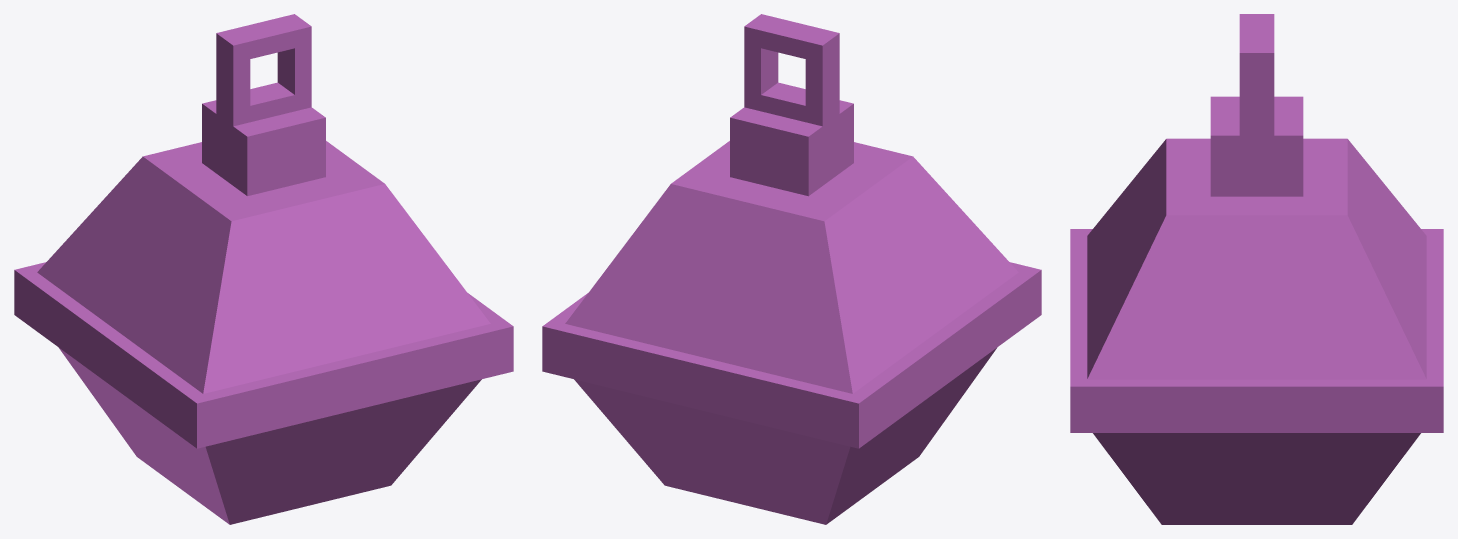
Rendered from 041 Xmas_Bell.fbx.
3 views of the same model, side by side, from view 1: azimuth 30°, elevation 25°; view 2: azimuth 150°, elevation 25°; view 3: azimuth 270°, elevation 25° (orthographic). The views are drawn at different scales.
Parts seen in each view (by area): view 1: Lowpoly_Christmas_Pack_041:pCube6; view 2: Lowpoly_Christmas_Pack_041:pCube6; view 3: Lowpoly_Christmas_Pack_041:pCube6.
Boxes of the visible parts, x1,y1,x2,y2 form: Lowpoly_Christmas_Pack_041:pCube6: [14, 14, 513, 524]; Lowpoly_Christmas_Pack_041:pCube6: [542, 14, 1041, 524]; Lowpoly_Christmas_Pack_041:pCube6: [1070, 14, 1443, 524].
Size of the model in its own units: 1.1 by 1.47 by 1.1.
